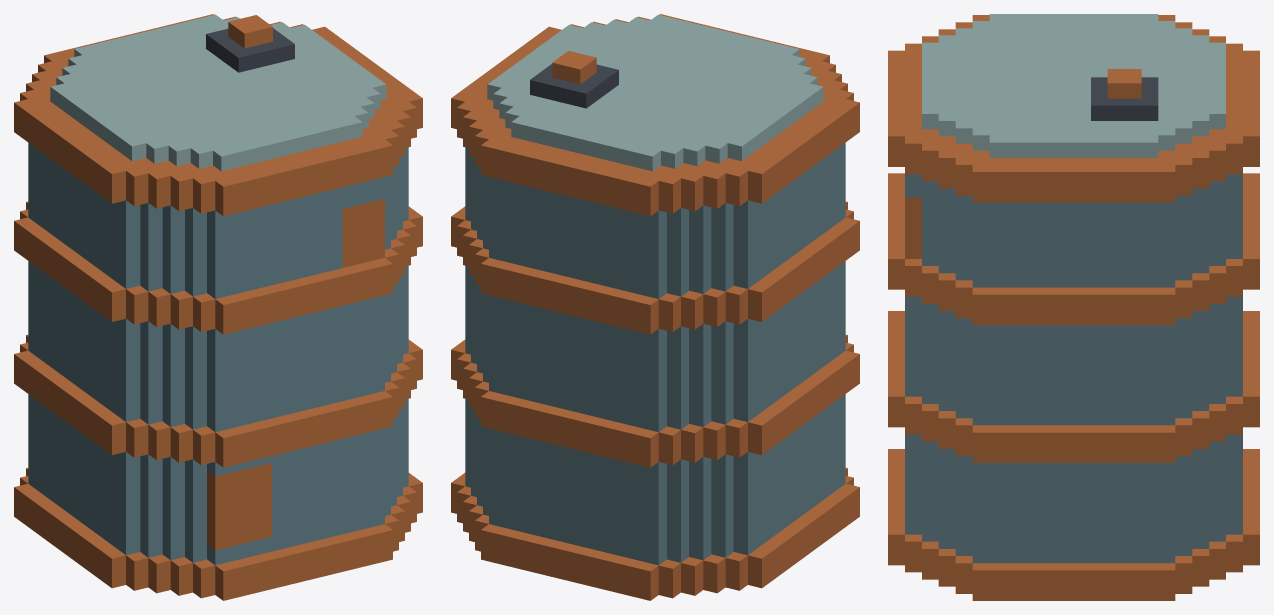
The model's file is voxel_32_20047.glb.
3 renders of one model, left to right at view 1: azimuth 30°, elevation 25°; view 2: azimuth 150°, elevation 25°; view 3: azimuth 270°, elevation 25°, orthographic. The views are drawn at different scales.
Visible parts, largest first — view 1: prop_20047; view 2: prop_20047; view 3: prop_20047.
Boxes of the visible parts, bbox=[...] form: prop_20047: bbox=[14, 14, 422, 600]; prop_20047: bbox=[451, 14, 859, 600]; prop_20047: bbox=[888, 14, 1259, 600].
Size of the model in its own units: 0.5706 by 0.8041 by 0.5706.
